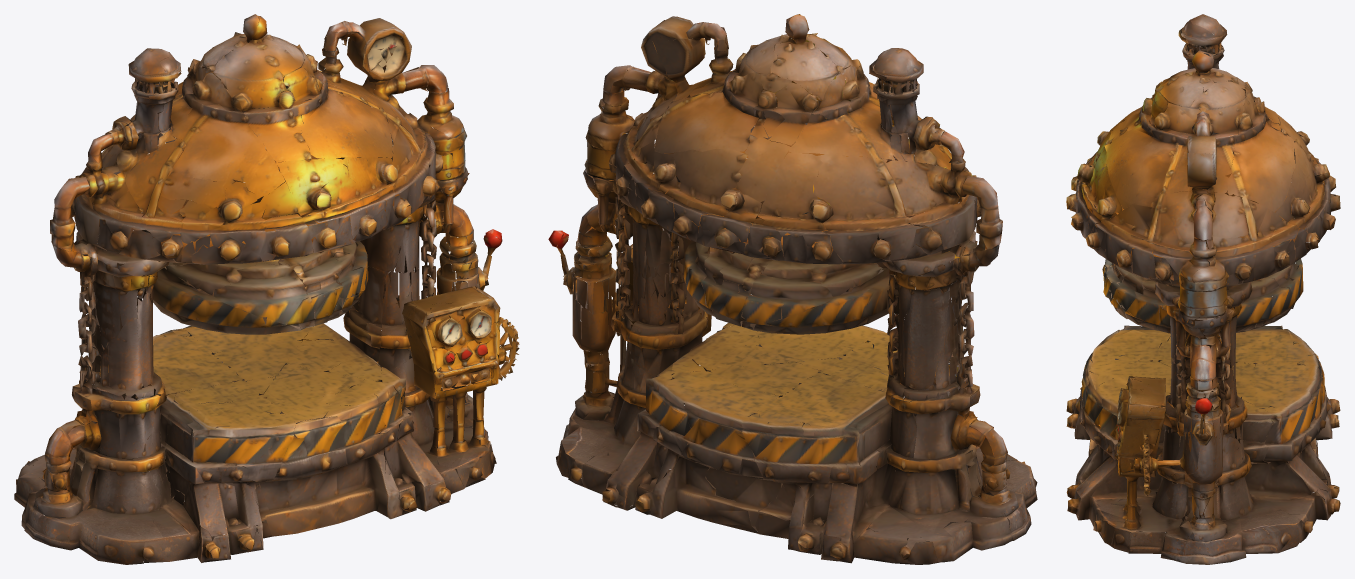
3 views of the same model, side by side, from view 1: azimuth 30°, elevation 25°; view 2: azimuth 150°, elevation 25°; view 3: azimuth 270°, elevation 25° (orthographic). The views are drawn at different scales.
Visible parts, largest first — view 1: tripo_node_e160945b-3999-448d-988f-a4c853993c00; view 2: tripo_node_e160945b-3999-448d-988f-a4c853993c00; view 3: tripo_node_e160945b-3999-448d-988f-a4c853993c00.
Part boxes in pixels (left/top/right/bottom): tripo_node_e160945b-3999-448d-988f-a4c853993c00: left=14, top=14, right=519, bottom=564; tripo_node_e160945b-3999-448d-988f-a4c853993c00: left=548, top=14, right=1037, bottom=564; tripo_node_e160945b-3999-448d-988f-a4c853993c00: left=1066, top=14, right=1340, bottom=564.
Size of the model in its own units: 0.9806 by 0.9273 by 0.5543.
Materials: 1 (1 with a texture image).
